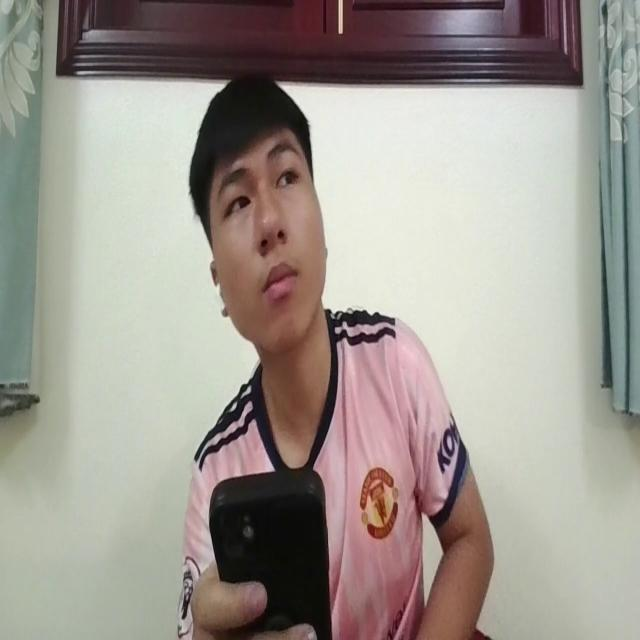phone: (209, 466, 333, 640)
student: (171, 66, 497, 640)
